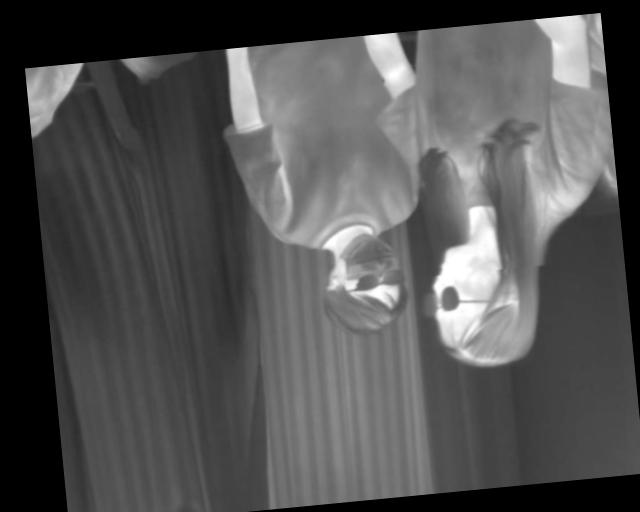face: (318, 228, 410, 339)
